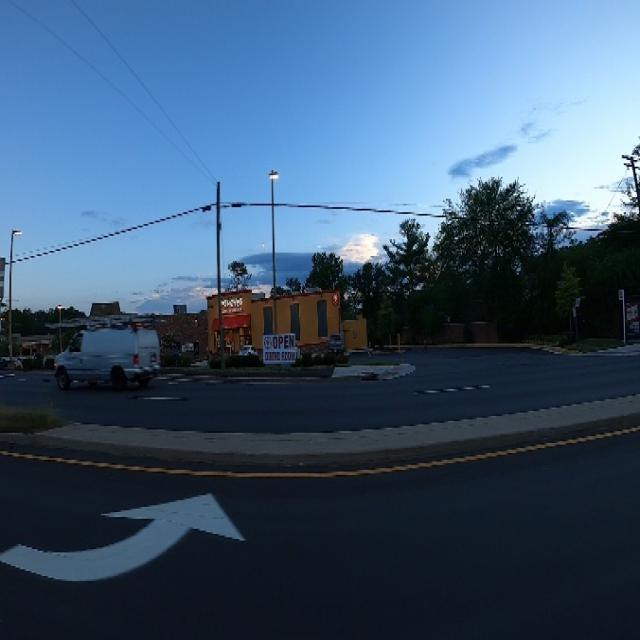cars: (54, 319, 162, 392), (234, 338, 258, 370), (323, 333, 348, 362)
